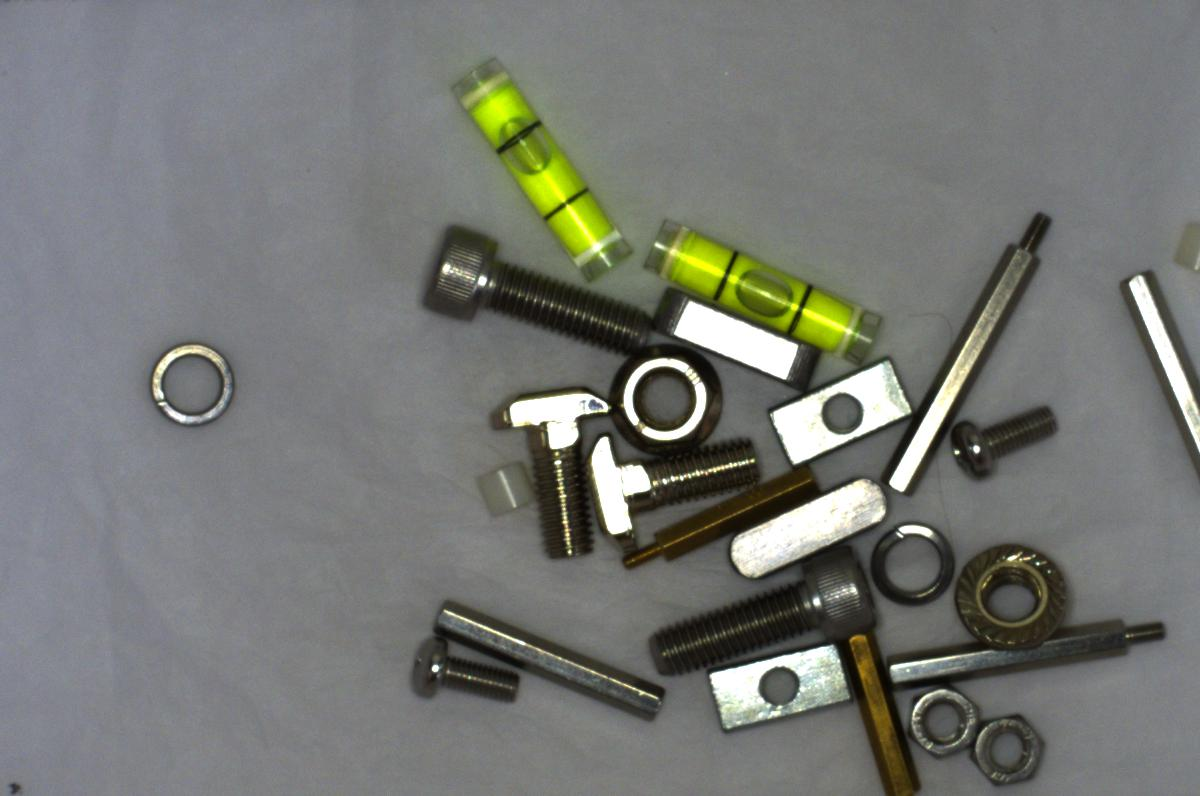Double hexagonal column: (432, 599, 666, 721), (1114, 260, 1192, 469)
Flange nut: (937, 539, 1084, 656), (606, 346, 719, 446)
Hexagon nut: (970, 690, 1058, 791), (906, 685, 975, 759)
Hexagon pillar: (608, 472, 824, 568), (843, 626, 919, 795)
Hexagon screw: (421, 221, 651, 355), (660, 535, 878, 674)
Hexagonal steel column: (875, 212, 1067, 509), (884, 612, 1170, 699)
Horizontal bubble: (438, 53, 646, 282), (639, 214, 883, 364)
Keybar: (651, 282, 825, 387), (714, 482, 900, 577)
Plastic cushion pillar: (473, 453, 532, 524)
Rectangular nut: (774, 355, 911, 467), (700, 639, 852, 733)
Round head screw: (394, 633, 528, 712), (947, 400, 1062, 485)
Spring washer: (861, 518, 957, 614), (148, 344, 237, 426)
T-shaped screw: (576, 418, 769, 550), (485, 374, 612, 564)
